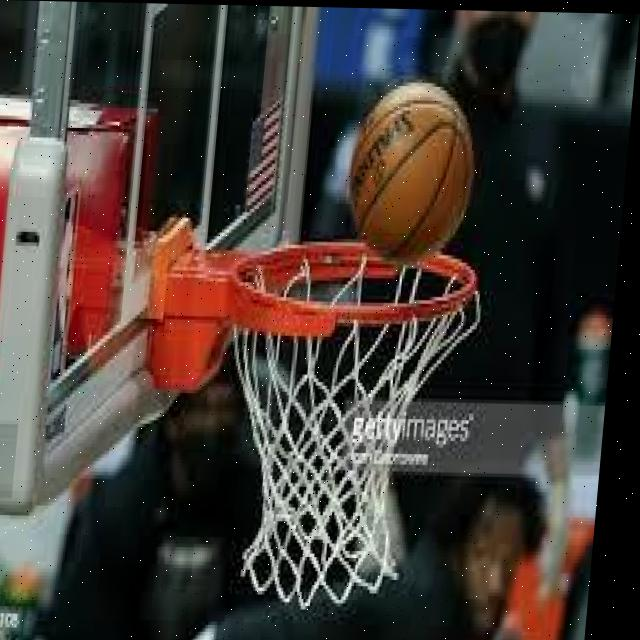basketball: (346, 85, 479, 259)
hoop: (204, 244, 479, 595)
